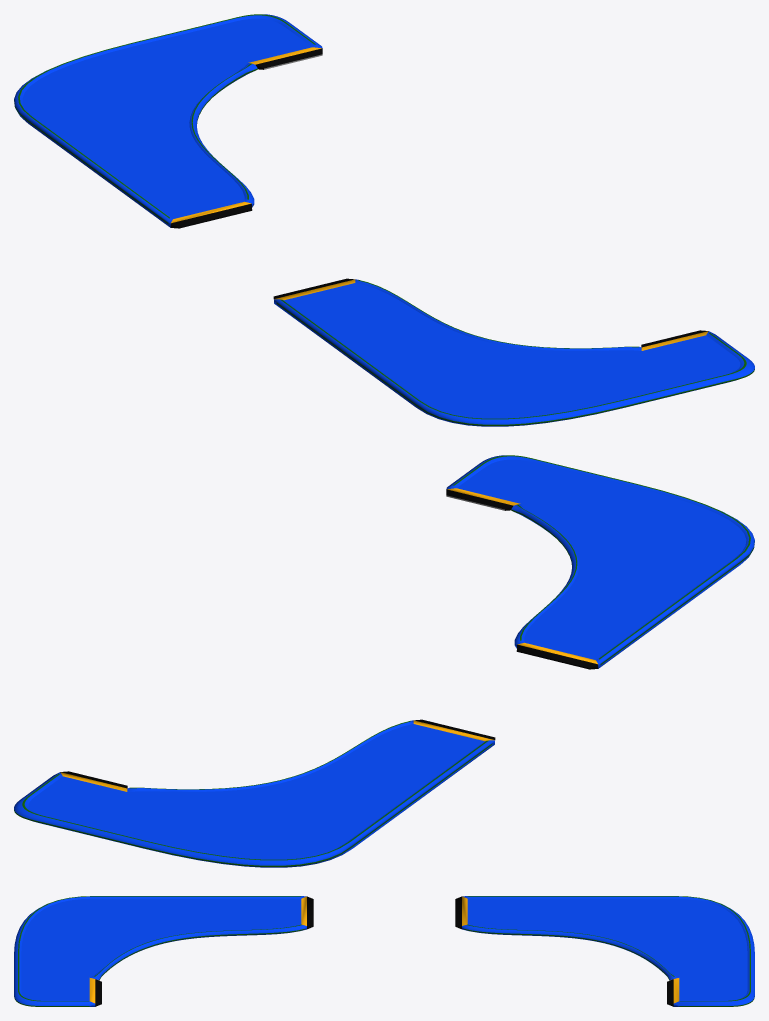
Rendered from Second Level Wings.FBX.
The picture shows the model from 3 angles, top to bottom: view 1: azimuth 30°, elevation 25°; view 2: azimuth 150°, elevation 25°; view 3: azimuth 270°, elevation 25°; orthographic projection. The views are drawn at different scales.
Parts seen in each view (by area): view 1: 3rd Level Landing006, 3rd Level Landing007; view 2: 3rd Level Landing007, 3rd Level Landing006; view 3: 3rd Level Landing006, 3rd Level Landing007.
Part boxes in pixels (x1=…): 3rd Level Landing006: x1=273, y1=278, x2=754, y2=426; 3rd Level Landing007: x1=14, y1=14, x2=322, y2=228; 3rd Level Landing007: x1=14, y1=719, x2=495, y2=867; 3rd Level Landing006: x1=446, y1=455, x2=754, y2=669; 3rd Level Landing006: x1=14, y1=896, x2=313, y2=1006; 3rd Level Landing007: x1=455, y1=896, x2=754, y2=1006.
Size of the model in its own units: 27.97 by 0.5504 by 80.79.
